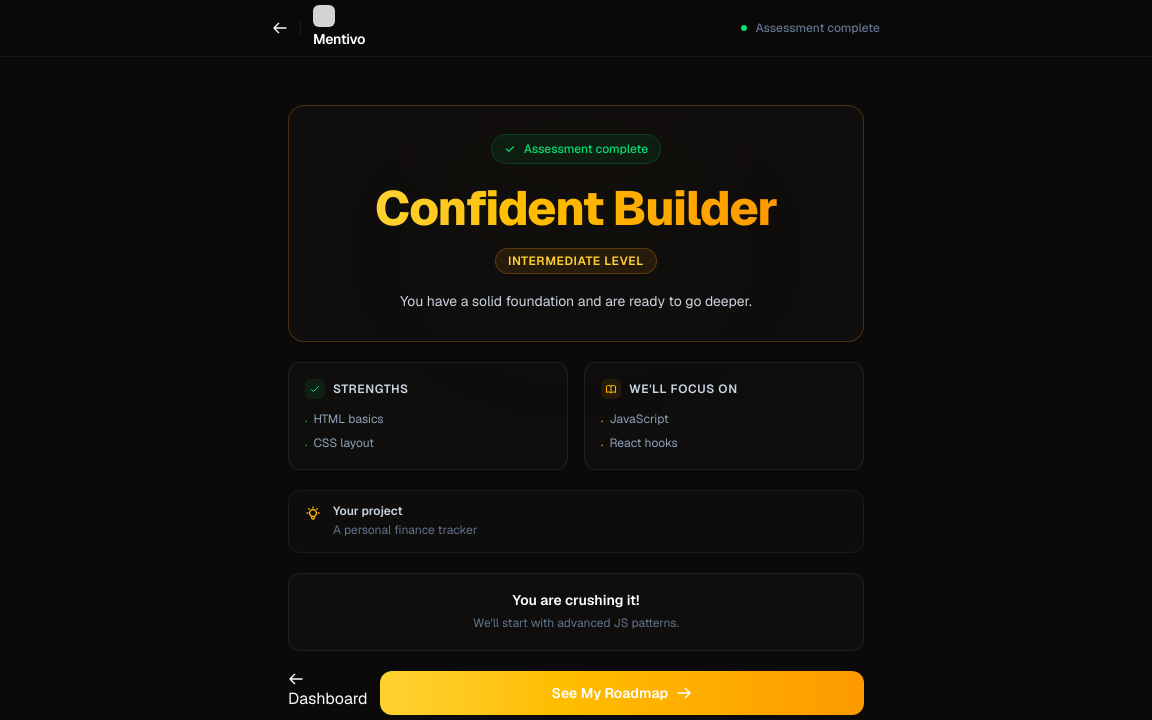
QuizResults › disables the CTA and shows "Building your roadmap..." while loading
Click the button "See My Roadmap".
click(622, 693)  # box [380,671,864,715]
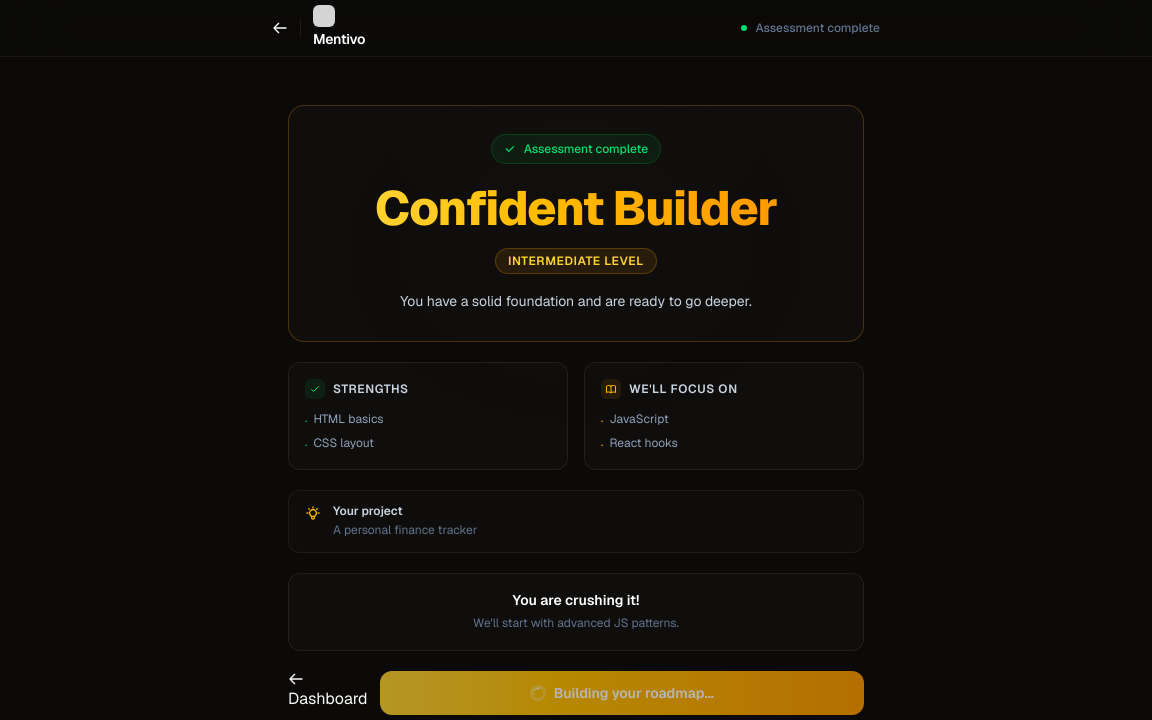
Check: the button "Building your roadmap..." is disabled, box [380,671,864,715]
